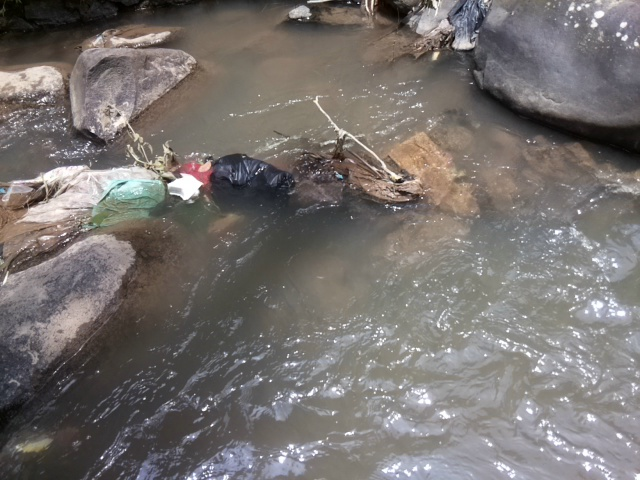Sampah_Plastik: (3, 163, 162, 243), (207, 152, 298, 214), (446, 1, 483, 52)
Sampah_Styrofoam: (167, 170, 203, 202)
